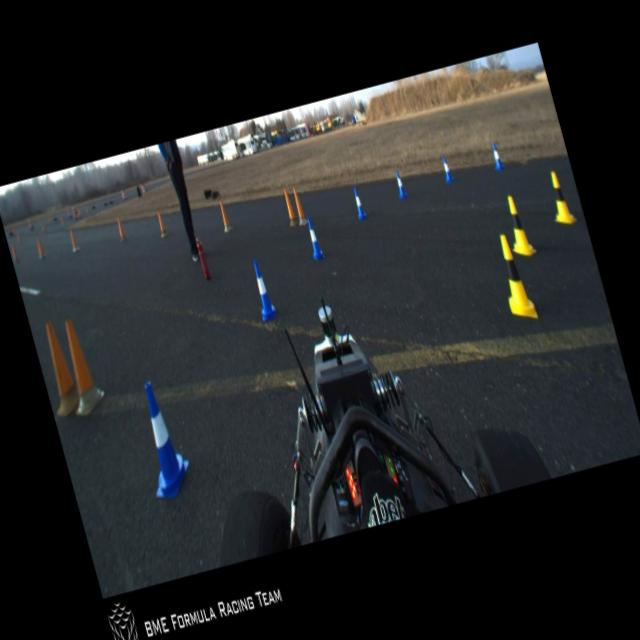blue_cone: (127, 377, 196, 502), (246, 258, 278, 320), (302, 216, 324, 260), (350, 185, 368, 219), (392, 168, 408, 198), (488, 142, 504, 171), (439, 154, 454, 182)
unknown_cone: (55, 316, 109, 417), (32, 318, 84, 416), (280, 186, 300, 228), (290, 186, 308, 225), (215, 198, 232, 232), (154, 209, 168, 237), (114, 217, 128, 242), (66, 227, 80, 251), (34, 236, 46, 260), (9, 241, 20, 263)
yellow_cone: (492, 231, 538, 322), (499, 193, 536, 259), (542, 168, 577, 228)
